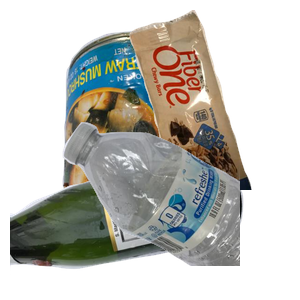glass: (10, 154, 246, 300)
metal: (60, 28, 300, 208)
plastic: (60, 120, 300, 300)
trash: (127, 10, 300, 190)
